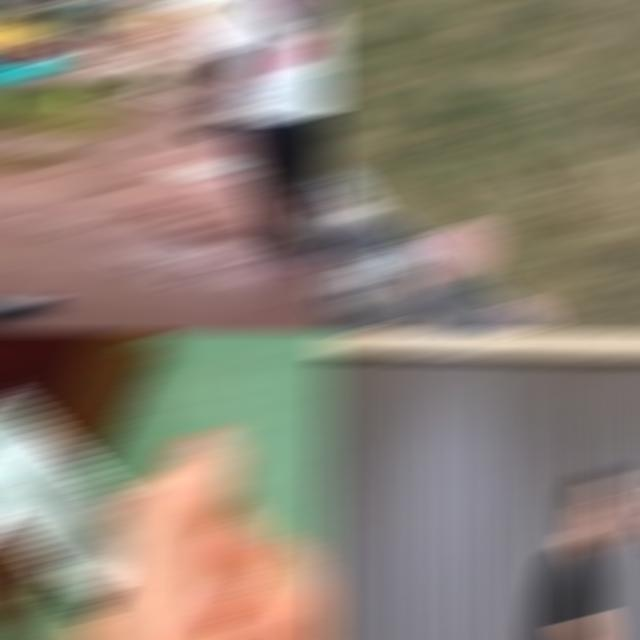Knife_Handle: (0, 334, 335, 638), (317, 54, 640, 330)
